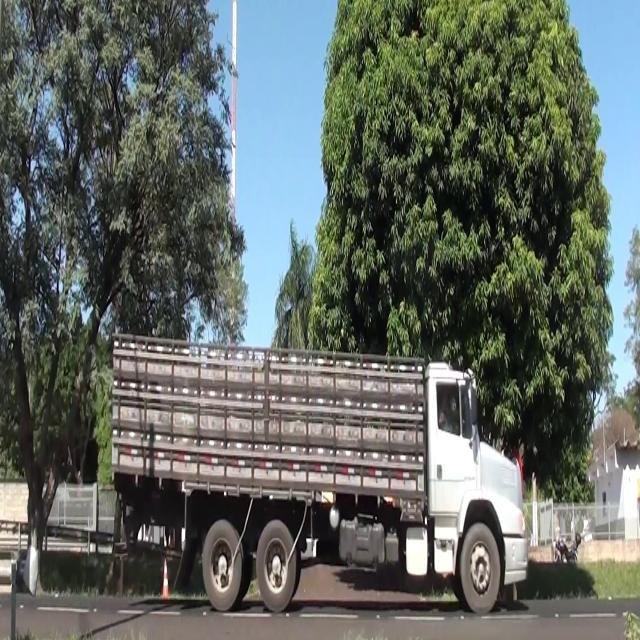-axle: (459, 524, 502, 616), (258, 518, 296, 612), (203, 522, 243, 607)
